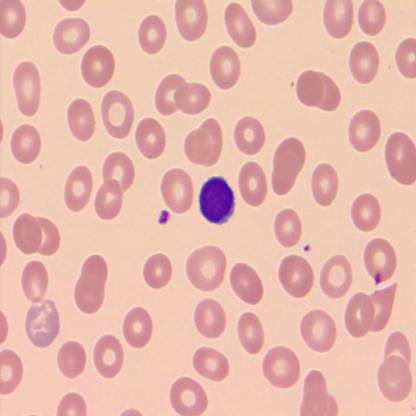Lymphocyte: (197, 175, 235, 224)
